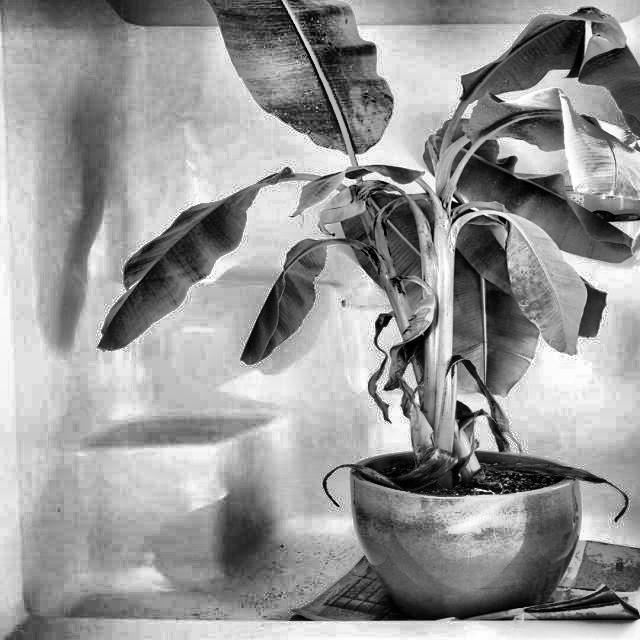plants: (87, 0, 640, 632), (470, 85, 640, 258), (358, 278, 443, 457), (312, 172, 438, 270)
